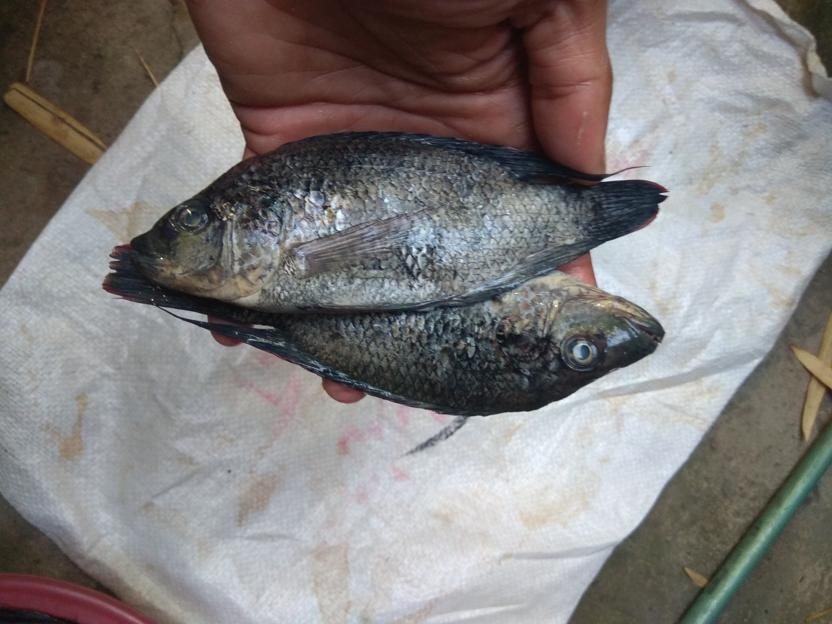Fish head: (504, 267, 667, 404), (130, 177, 289, 305)
Fish tail: (100, 242, 224, 317), (585, 179, 668, 243)
